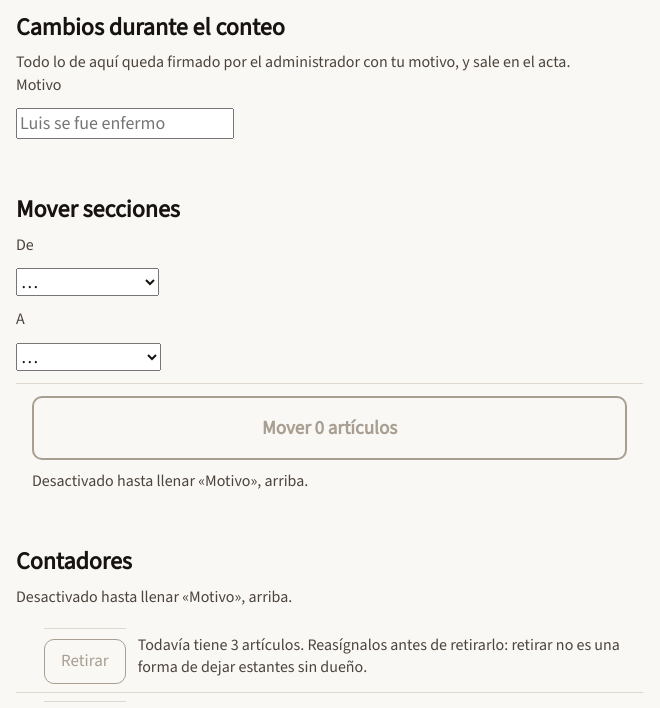
Test: sending the move › says what opens a gated button, beside the button (the §4.3 discipline)
Expected: the text "Desactivado hasta llenar «Motivo», arriba." below "Mover secciones" is shown, [32,470,308,490]
Type "llegó refuerzo" into the field labelled "Motivo". click: coordinates (125, 124)
box: [16,108,234,139]
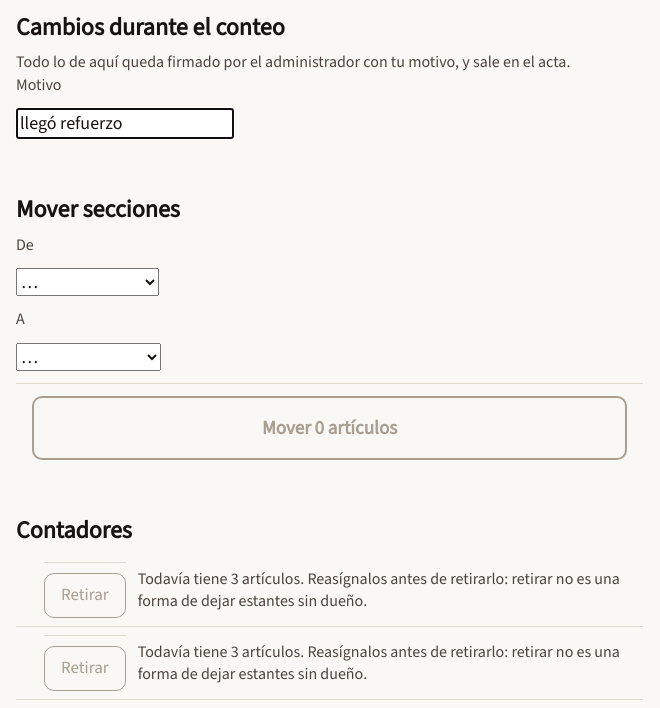
Expected: the text "Desactivado hasta llenar «Motivo»" is gone
